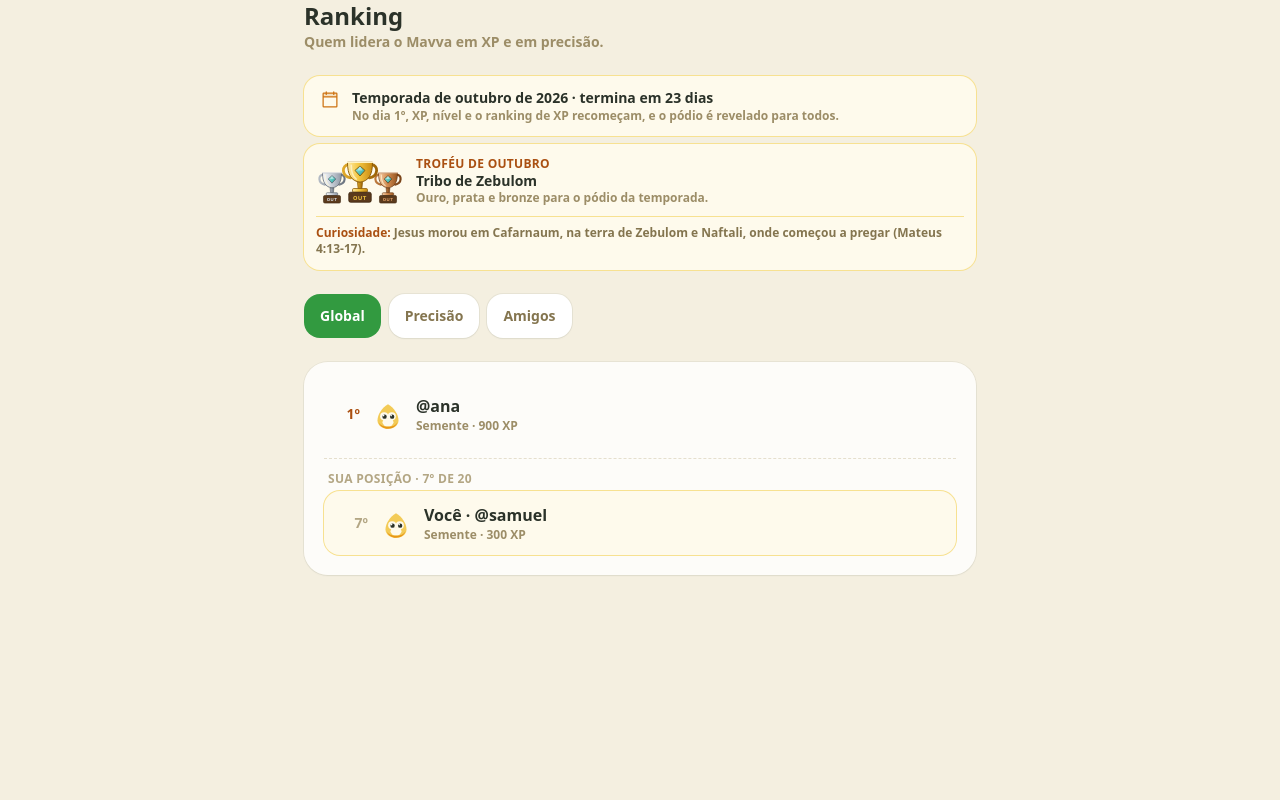
RankingPage › Precisão tab › opens the profile of the player tapped in the accuracy board
This screenshot has width=1280, height=800.
What coordinates should you click on to do the following:
click the button "Precisão"
I would click on:
 (434, 316)
Its box is left=389, top=294, right=479, bottom=338.
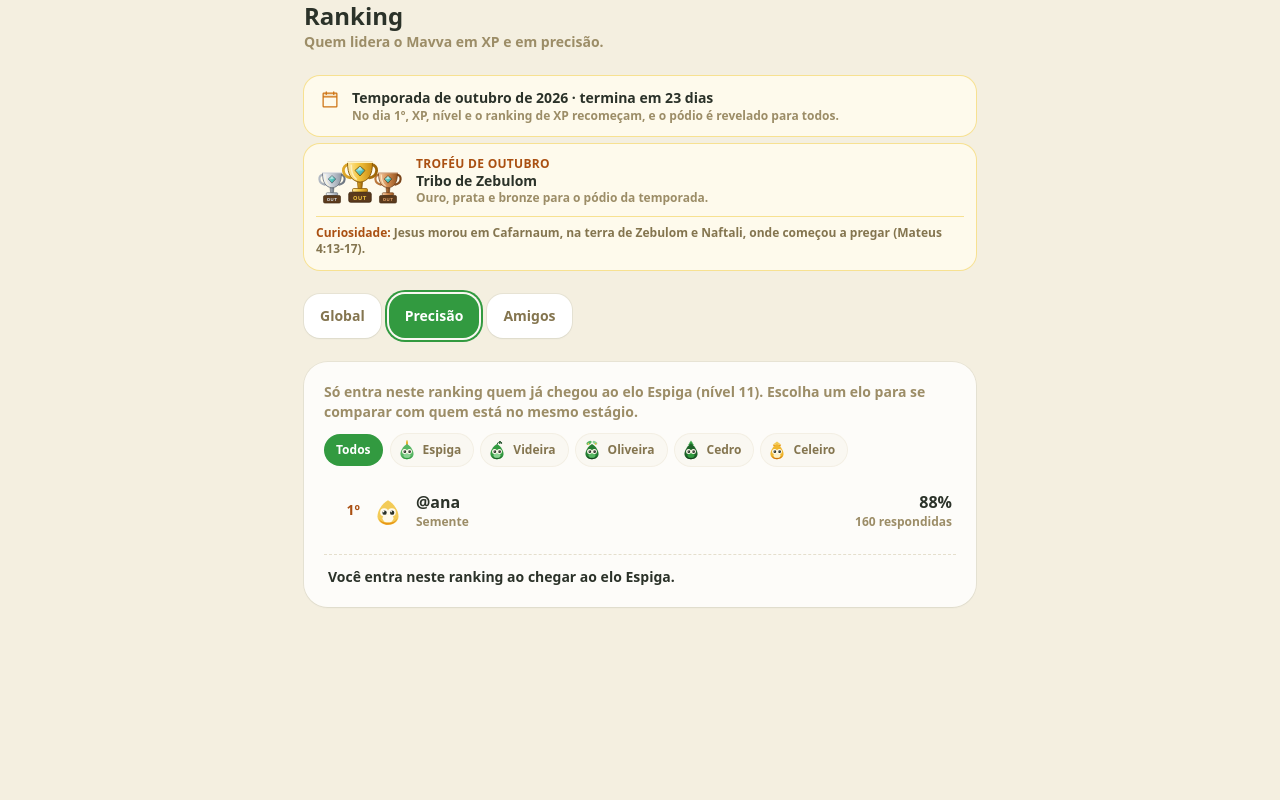
Check: the text "Só entra neste ranking quem já chegou ao elo Espiga (nível 11)" is shown, box left=324, top=382, right=956, bottom=422
What coordinates should you click on to do the following:
click the button "1º @ana Semente 88% 160 respondidas"
I would click on:
 (388, 510)
Its box is left=324, top=478, right=956, bottom=542.
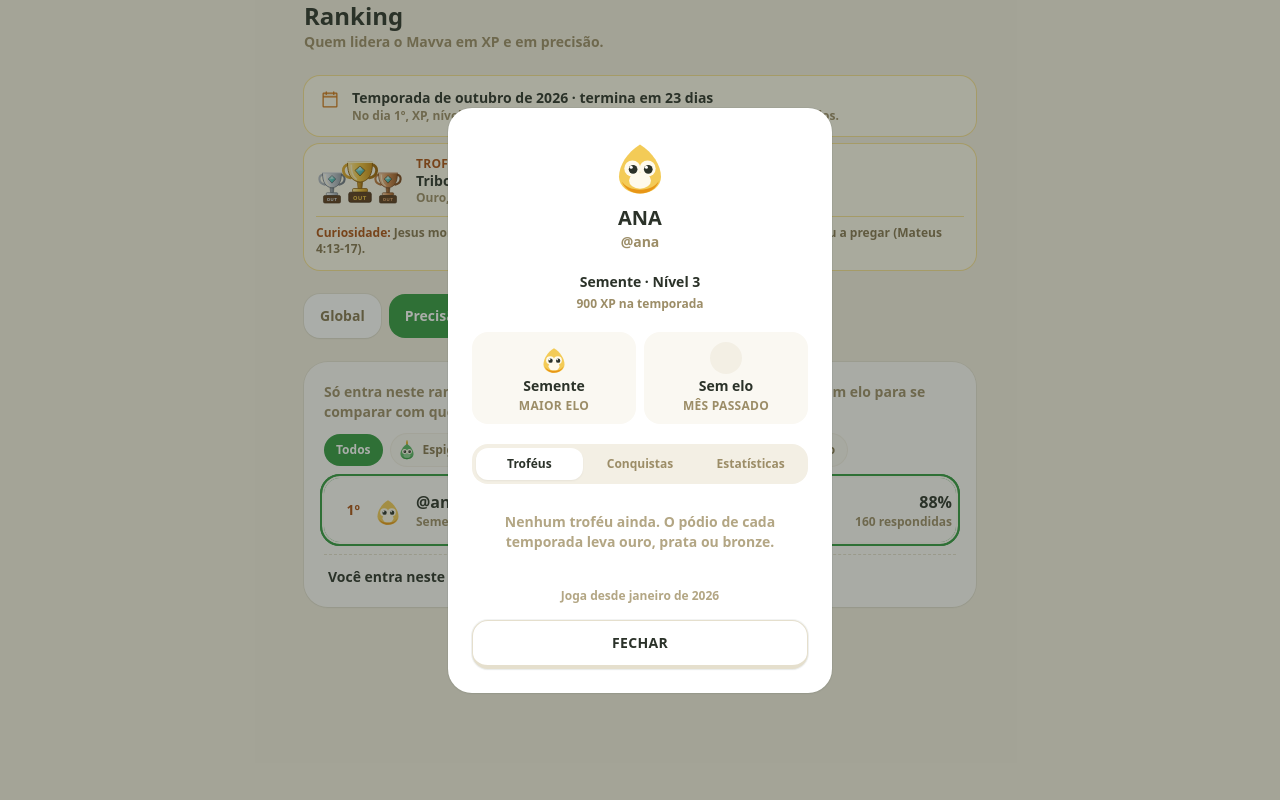
Check: the text "@ana" is shown, box left=618, top=232, right=662, bottom=252
